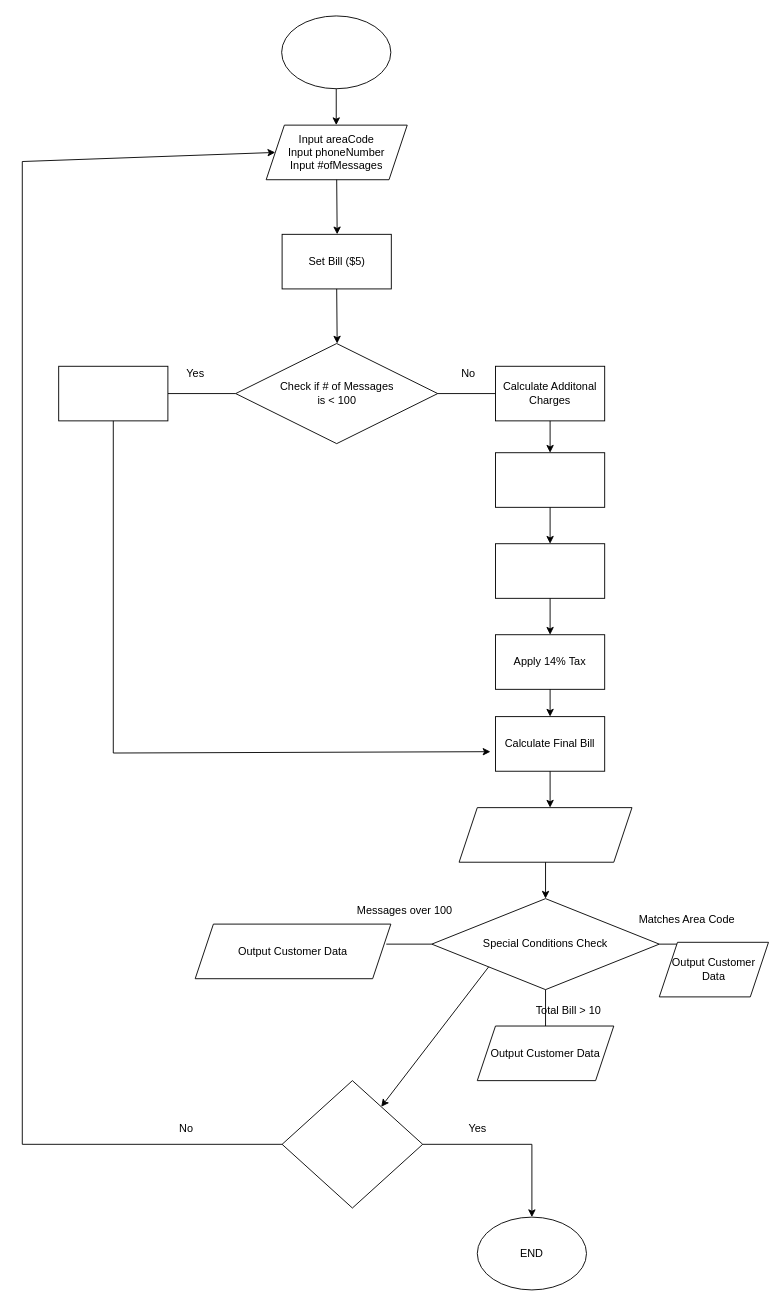
Image size: 784x1306. Some labels were removed from this diagram. Here are the shapes that lost their labels. From the top down, the centre of each, then its label:
At point (336, 52): "START".
At point (113, 393): "Tax Calculation".
At point (550, 479): "Process Additional Charges".
At point (550, 570): "Calculate Total Bill Before Tax".
At point (545, 834): "Display Bill Details".
At point (352, 1144): "Check Sentinel Value".
